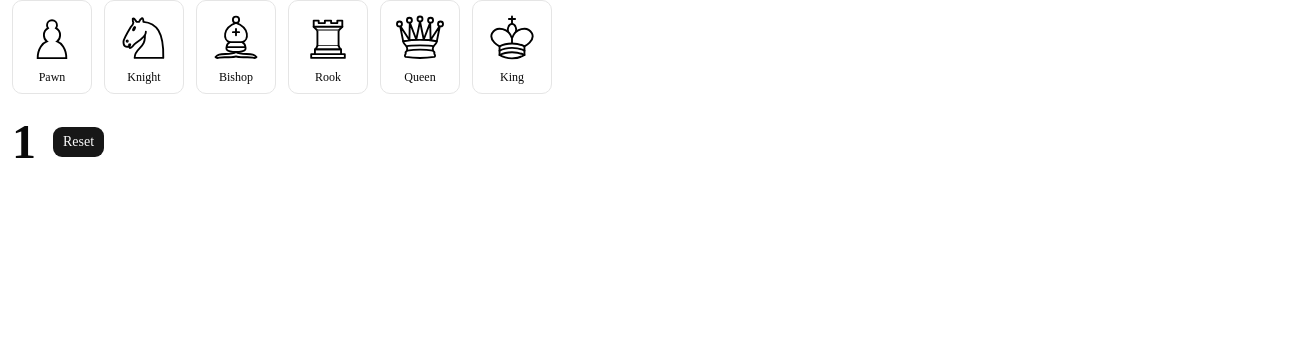
Test: <PieceValuesTraining /> › clears the answer and re-rolls the target on Reset
The width and height of the screenshot is (1292, 345).
Click the picture with alt text "Pawn" at {"x": 52, "y": 37}, box left=24, top=9, right=80, bottom=65
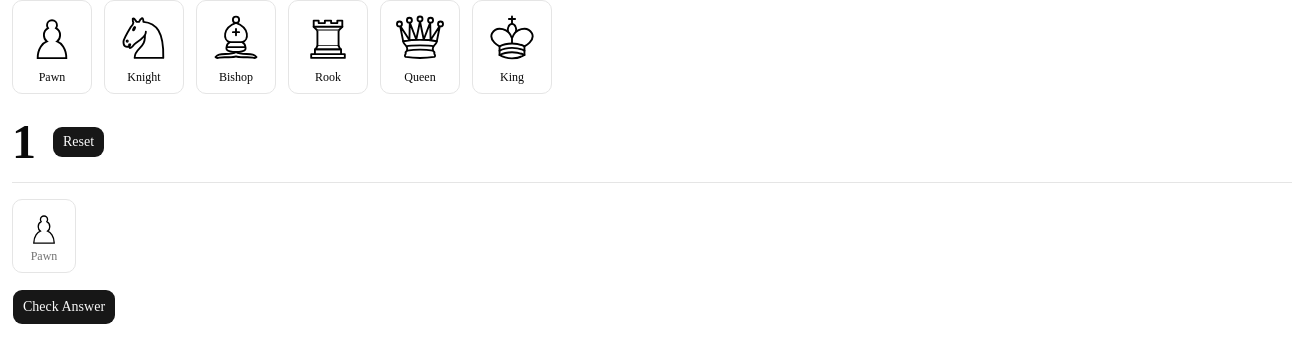
Click the button "Check Answer" at {"x": 64, "y": 307}, box left=12, top=289, right=116, bottom=325
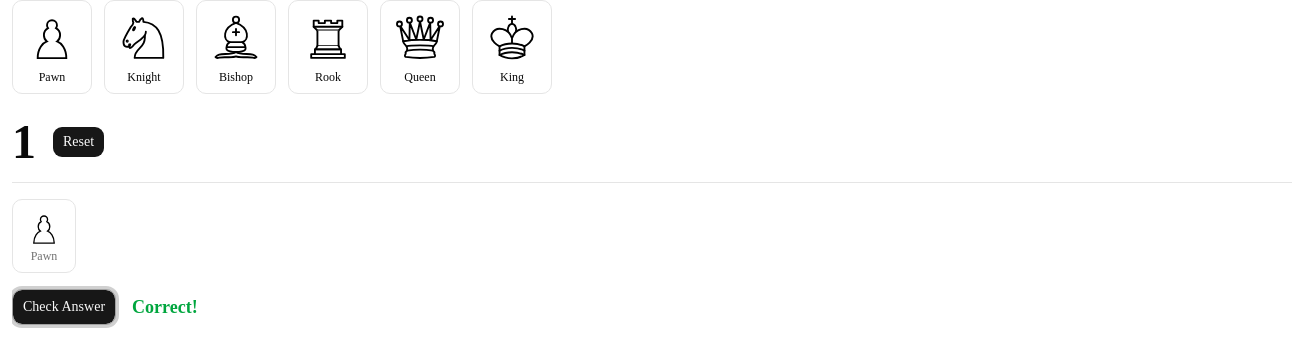
expect the text "Correct!" is shown: met, box left=132, top=293, right=198, bottom=321
Click the button "Reset" at {"x": 79, "y": 142}, box left=52, top=126, right=105, bottom=158
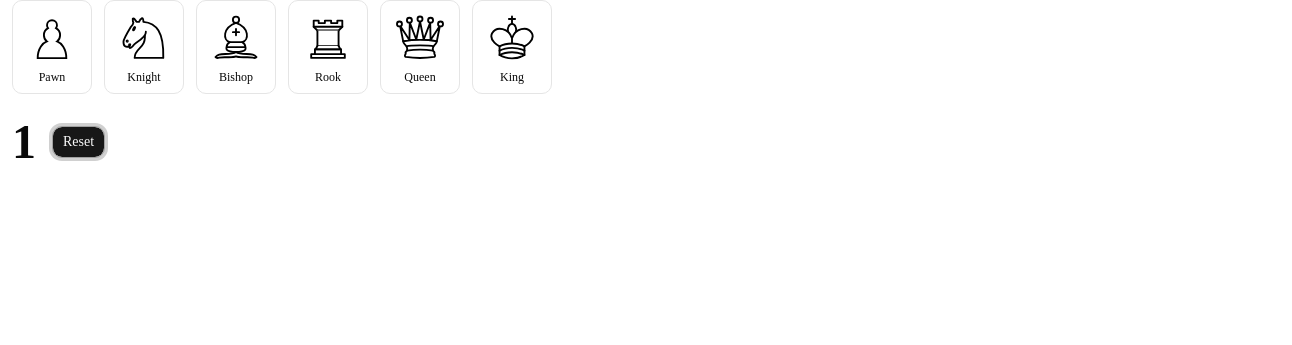
expect the text "Correct!" is gone: met
expect the button "Check Answer" is gone: met
